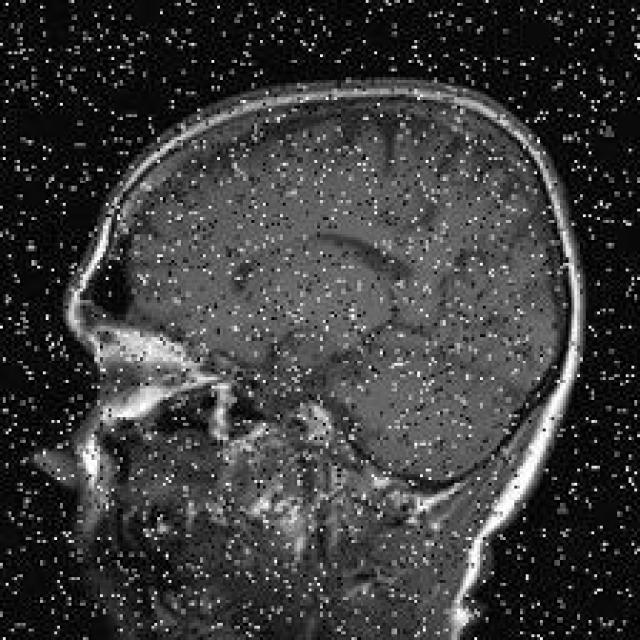no_tumor: (55, 82, 603, 640)
